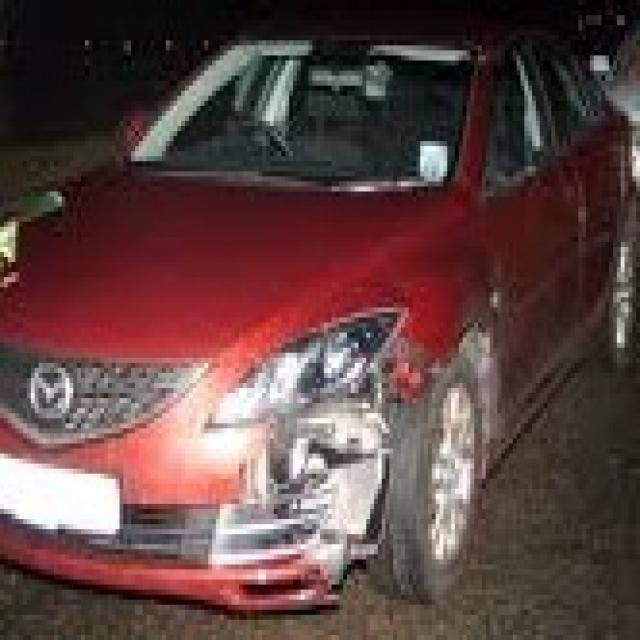minor: (219, 315, 395, 640)
